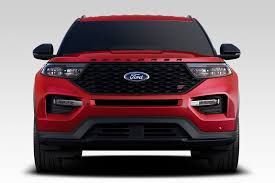Ford: (32, 11, 242, 171)
